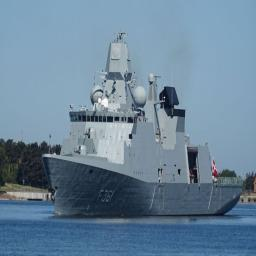Fragata: (41, 31, 247, 220)
